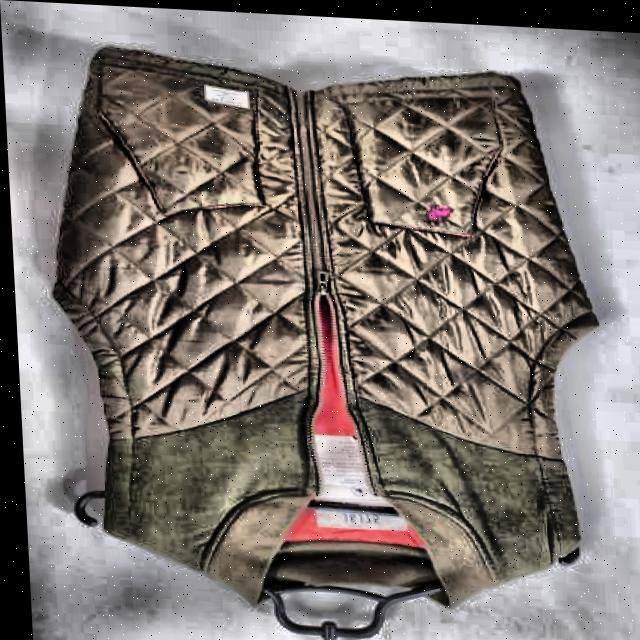clothes: (36, 45, 626, 624)
